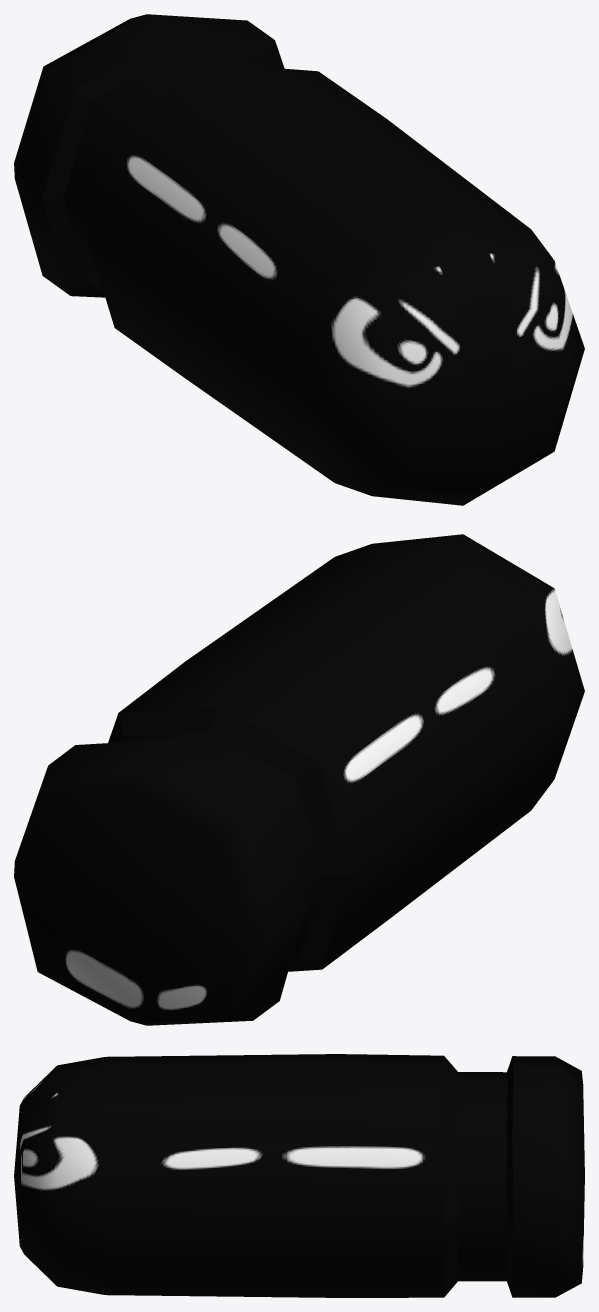
The model's file is BulletFBX.fbx.
The picture shows the model from 3 angles, top to bottom: view 1: azimuth 30°, elevation 25°; view 2: azimuth 150°, elevation 25°; view 3: azimuth 270°, elevation 25°; orthographic projection. The views are drawn at different scales.
Parts seen in each view (by area): view 1: pCube1; view 2: pCube1; view 3: pCube1.
Boxes of the visible parts, x1,y1,x2,y2 form: pCube1: (14, 14, 584, 505); pCube1: (14, 534, 584, 1025); pCube1: (14, 1054, 584, 1297).
Size of the model in its own units: 1 by 1 by 2.33.
